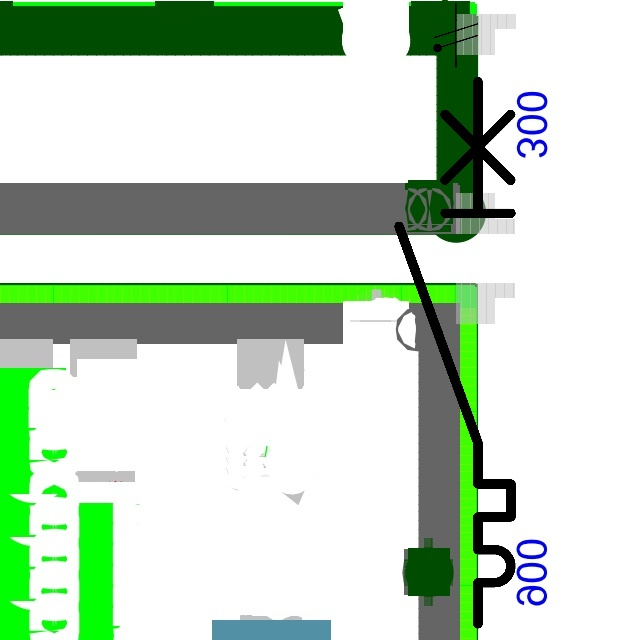interruptor_termomagnetico: (385, 67, 525, 638)
